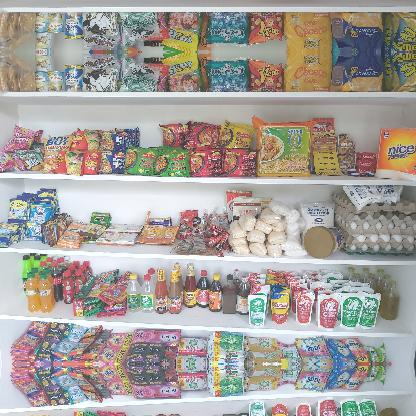Lady-s-Choice: (302, 225, 344, 257)
